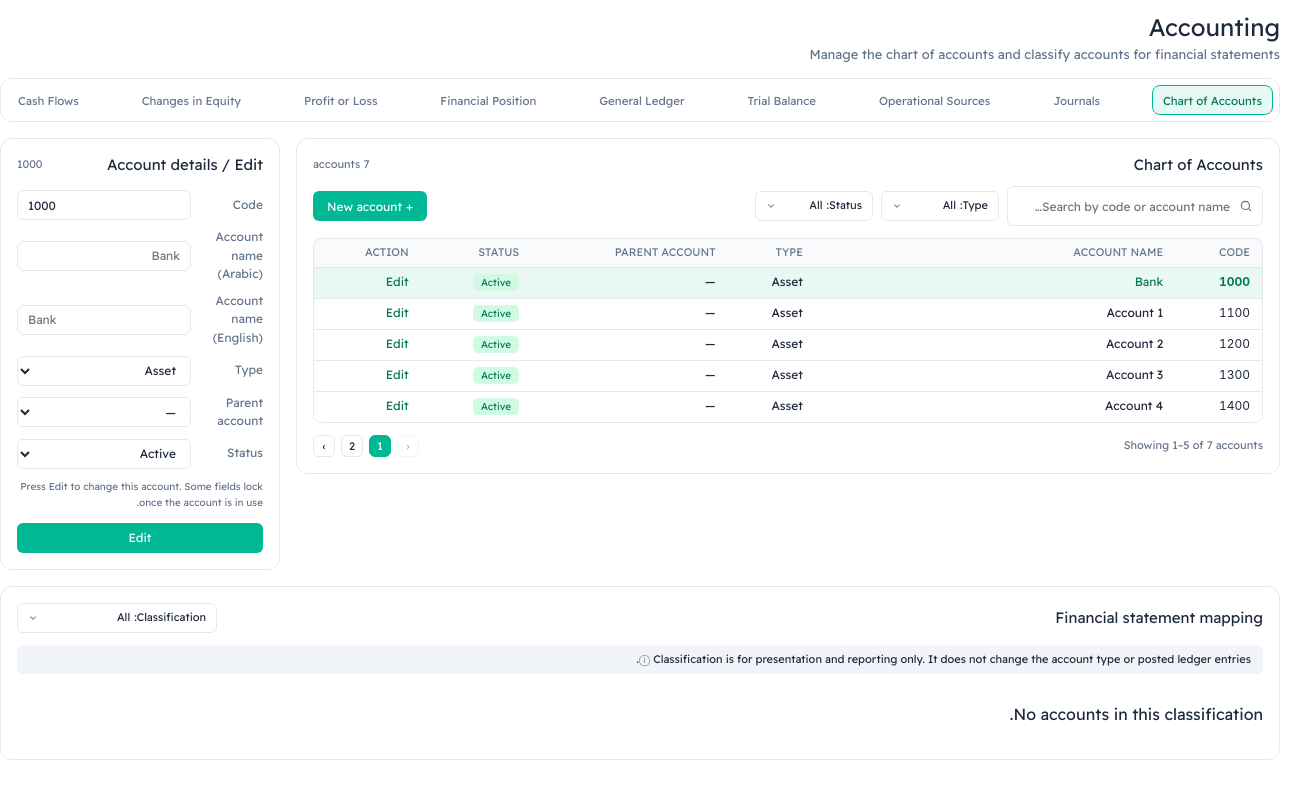
Test case: Accounting chart-of-accounts workspace › explains a server-side lock conflict and refreshes the data
Expected: the text "Bank" is shown, [815, 267, 1175, 298]
Click the button "Edit" below "Account name (English)" at point(140, 538), box [17, 523, 263, 553]
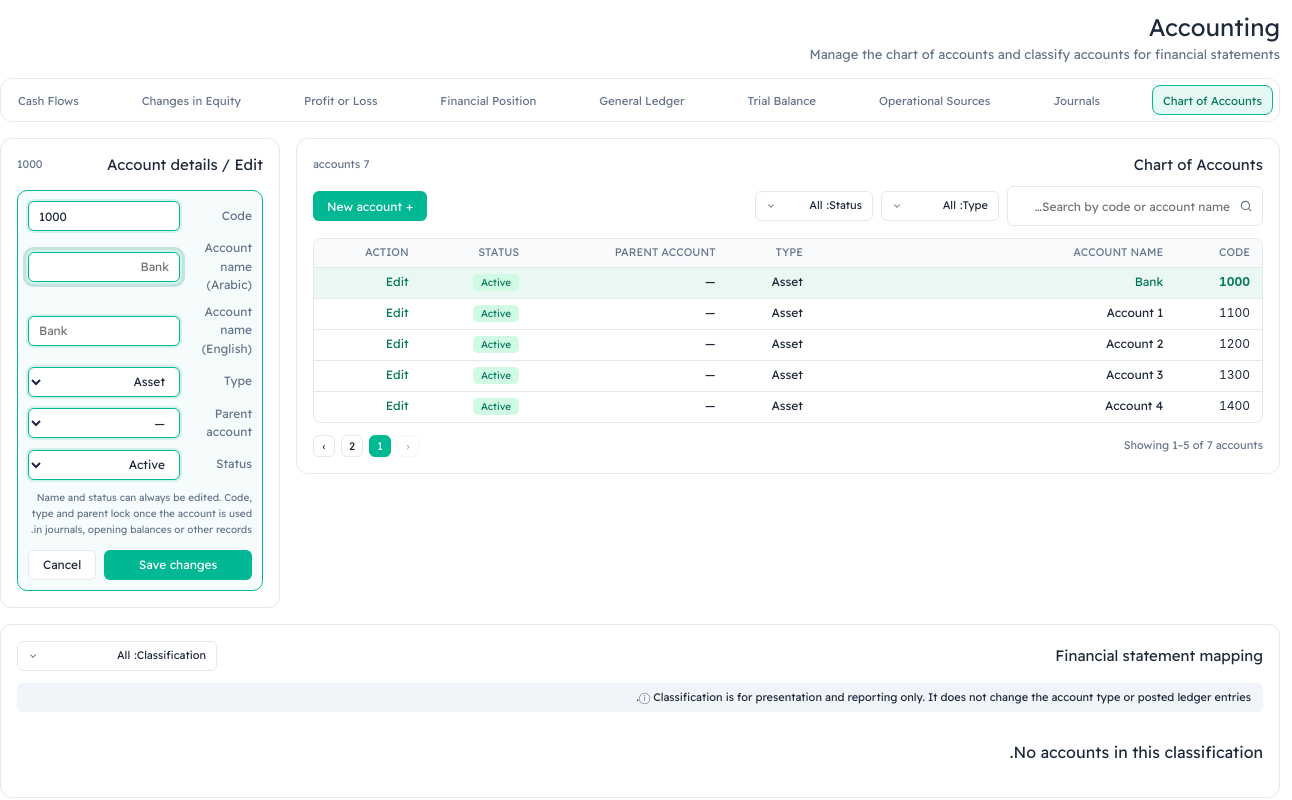
Replace the text in the field labelled "Code" with "1999" at point(104, 216), box [28, 201, 180, 231]
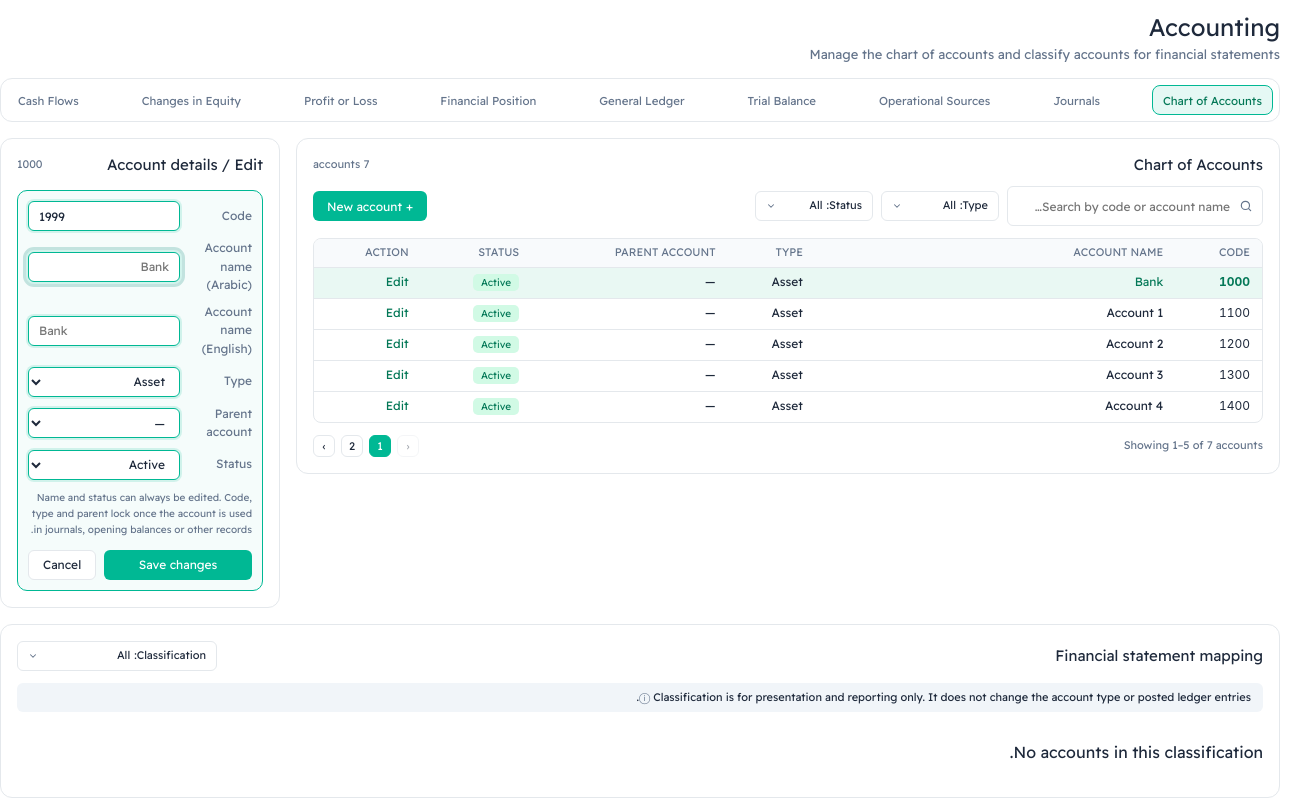
Click the button "Save changes" at point(178, 565), box [104, 550, 252, 580]
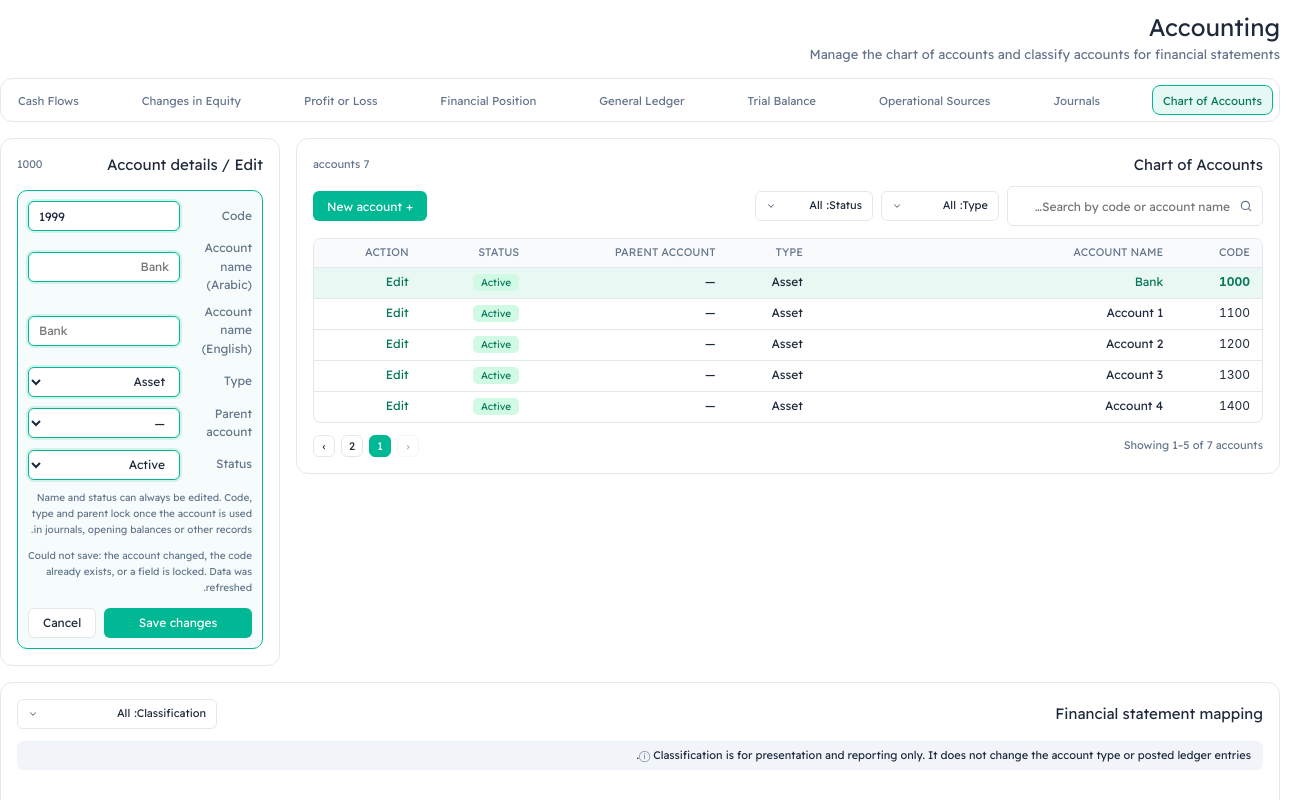
Now the text "Could not save" is shown, box [28, 549, 252, 594]
